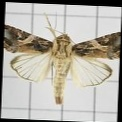Spodoptera litura: (3, 10, 119, 105)
